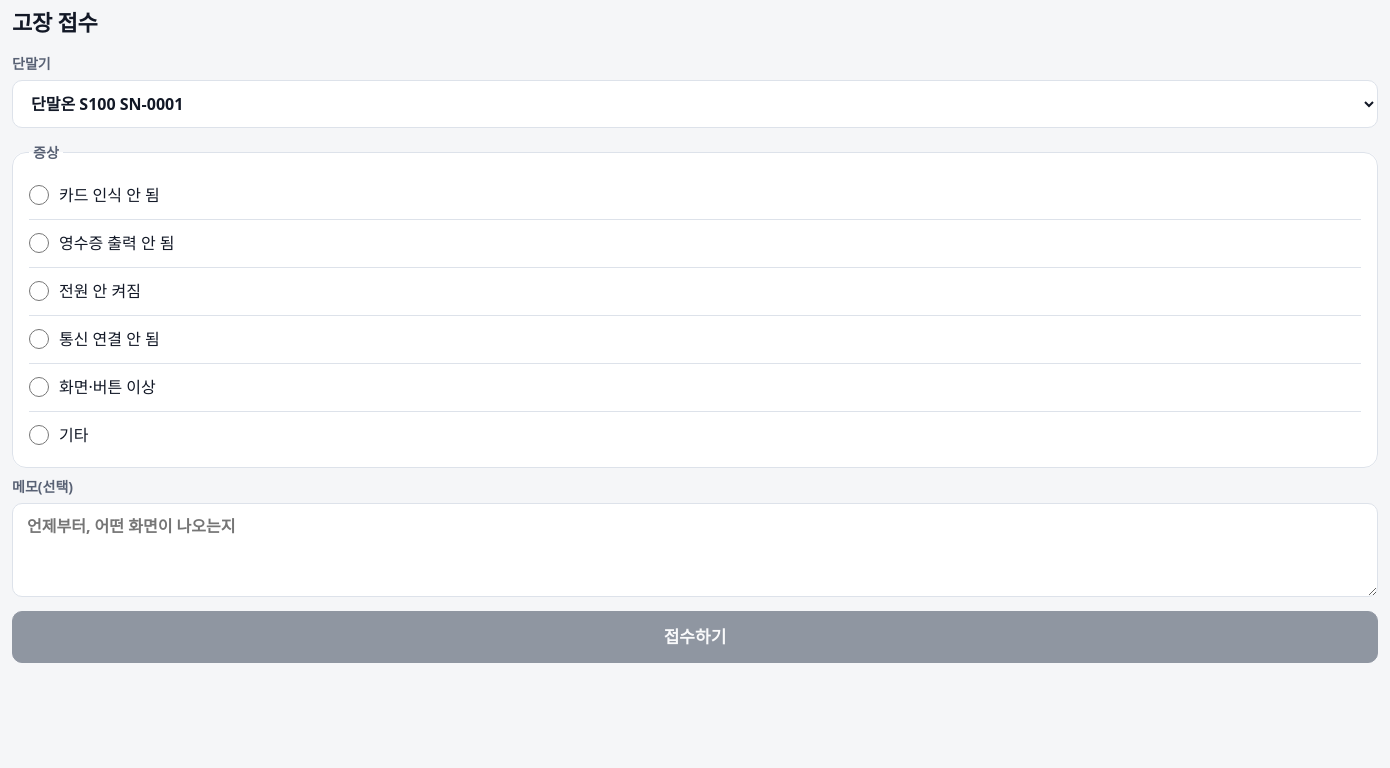
고장 접수 › 접수가 422로 실패하면 안내하고 단말기 목록을 다시 읽는다(낡은 화면)
Click the radio button labelled "전원 안 켜짐" at (39, 291), box [29,281,49,301]
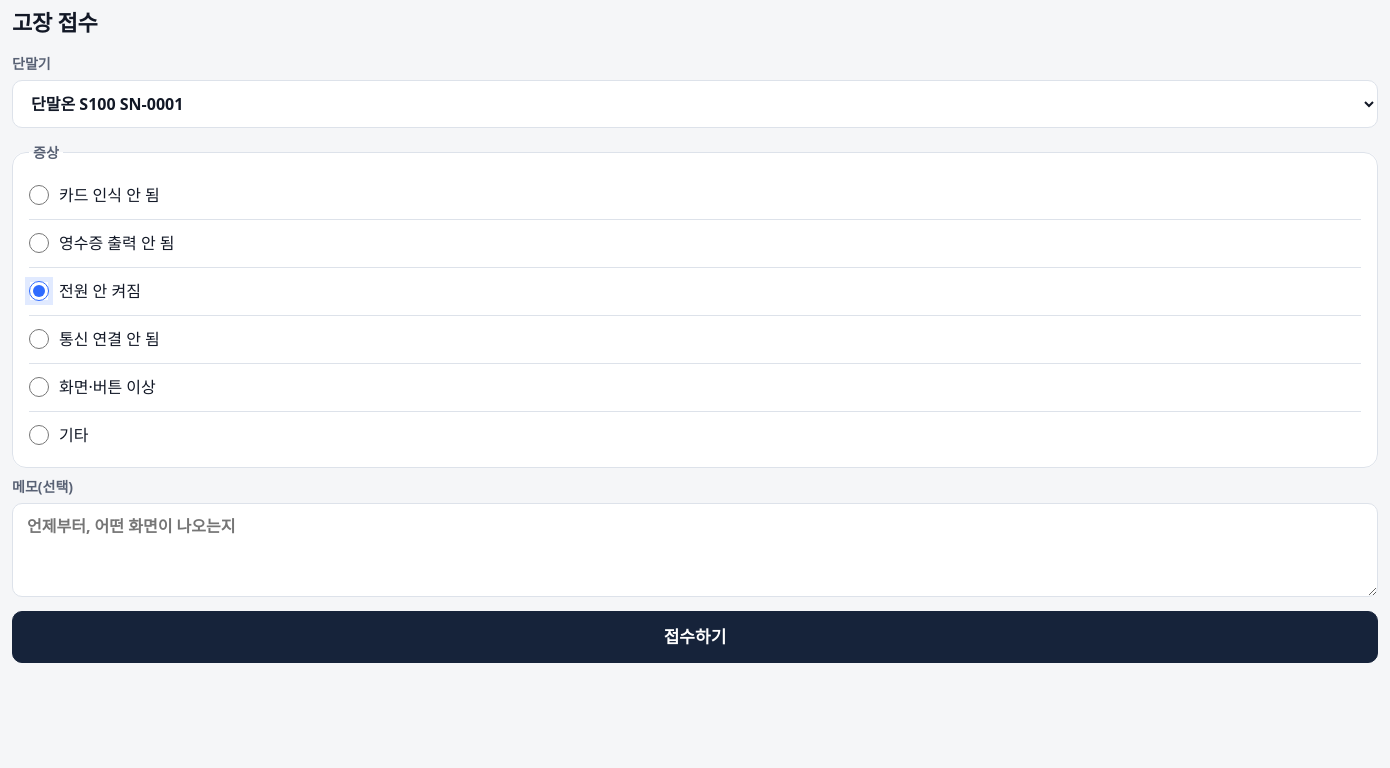
Click the button "접수하기" at (695, 637), box [12,611,1378,663]
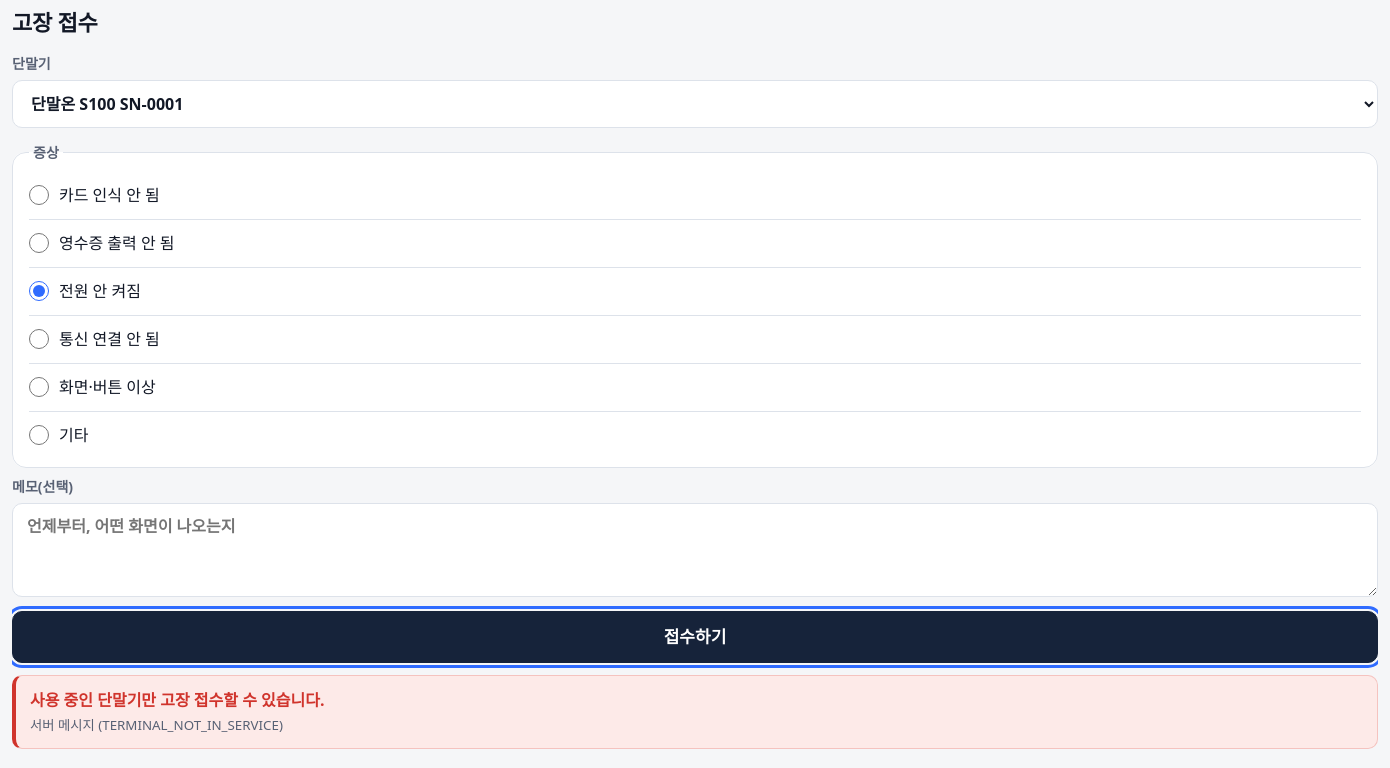
Result: the message shows "사용 중인 단말기만 고장 접수할 수 있습니다." at [30,689,324,711]
